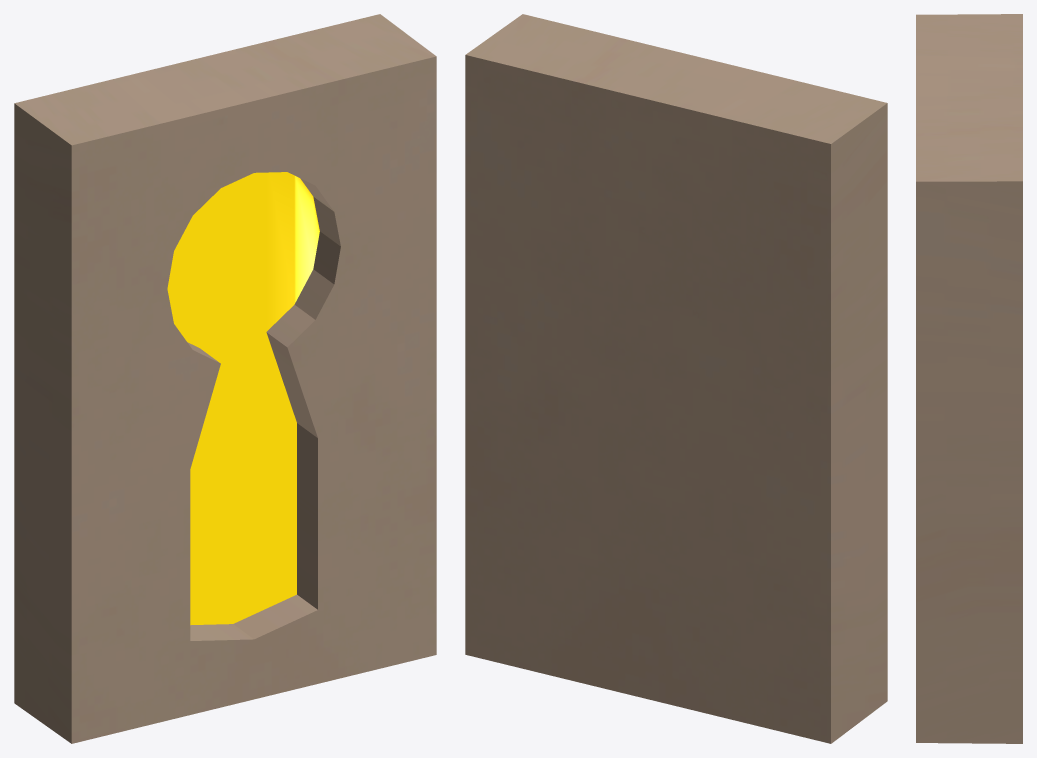
Rendered from MansionLockDoor (1).fbx.
3 renders of one model, left to right at view 1: azimuth 30°, elevation 25°; view 2: azimuth 150°, elevation 25°; view 3: azimuth 270°, elevation 25°, orthographic. The views are drawn at different scales.
Parts seen in each view (by area): view 1: lock, Keyhole; view 2: lock; view 3: lock.
Part boxes in pixels (left/top/right/bottom): lock: left=14, top=14, right=436, bottom=743; Keyhole: left=167, top=172, right=319, bottom=625; lock: left=465, top=14, right=887, bottom=743; lock: left=916, top=14, right=1022, bottom=743.
Bounding box in the file's own units: 107 × 168 × 28.93.
